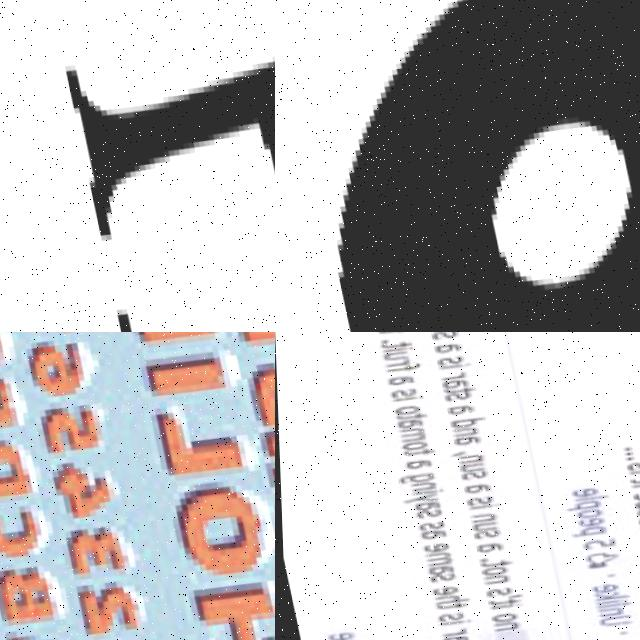1: (576, 532, 614, 548)
2: (72, 578, 139, 634)
3: (59, 520, 128, 575)
4: (40, 453, 115, 517)
5: (32, 394, 101, 451)
6: (19, 338, 84, 395)
A: (383, 371, 414, 387), (429, 339, 462, 354), (394, 414, 425, 429), (441, 400, 473, 414), (460, 479, 491, 493), (404, 455, 432, 470), (450, 431, 479, 445), (438, 374, 467, 388), (471, 538, 500, 552), (423, 561, 451, 574), (416, 527, 444, 540), (435, 629, 467, 640), (411, 498, 438, 511), (632, 509, 640, 524)
D: (448, 412, 486, 428)
E: (574, 512, 604, 526), (568, 482, 597, 496), (417, 540, 446, 554), (587, 577, 614, 591), (428, 582, 455, 596), (321, 628, 350, 640), (626, 484, 640, 499)
F: (384, 359, 420, 373)
G: (396, 469, 433, 485)
H: (73, 56, 275, 217), (430, 589, 466, 604)
I: (592, 592, 626, 603), (435, 359, 469, 369), (484, 599, 518, 608), (381, 343, 411, 353), (436, 616, 467, 625), (411, 485, 441, 494), (468, 500, 498, 508), (392, 392, 422, 400), (624, 462, 640, 472), (628, 474, 640, 485)
K: (589, 584, 626, 600), (324, 634, 361, 640)
L: (571, 489, 607, 500), (593, 596, 629, 606)
M: (396, 424, 423, 442), (422, 548, 448, 566)
N: (487, 616, 517, 631), (465, 509, 495, 523), (478, 571, 507, 585), (451, 423, 477, 436), (409, 477, 435, 490), (593, 602, 618, 615), (455, 450, 480, 463)
O: (275, 0, 640, 332), (476, 561, 506, 576), (389, 401, 421, 415), (486, 608, 515, 622), (400, 438, 428, 451), (572, 504, 599, 517), (599, 635, 628, 640)
P: (566, 520, 604, 535), (562, 494, 598, 509)
R: (437, 367, 466, 381), (382, 357, 409, 368), (436, 625, 461, 636)
S: (439, 388, 472, 402), (462, 491, 491, 506), (430, 608, 461, 622), (480, 583, 510, 597), (433, 351, 463, 365), (457, 466, 486, 480), (412, 505, 440, 519), (425, 569, 452, 582), (415, 518, 442, 531), (390, 385, 417, 398), (471, 525, 496, 538), (622, 454, 640, 468), (427, 332, 457, 339), (630, 491, 640, 505)
T: (400, 444, 436, 457), (439, 381, 474, 394), (394, 408, 425, 421), (481, 594, 516, 605), (432, 598, 464, 610), (475, 556, 509, 567), (380, 338, 410, 349), (628, 469, 640, 482)
U: (595, 609, 630, 624), (383, 348, 409, 361), (469, 518, 494, 531), (457, 458, 482, 471), (631, 500, 640, 515)
Y: (398, 489, 435, 504)
